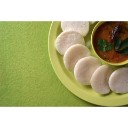idly: (74, 57, 101, 87), (65, 44, 91, 68), (57, 32, 84, 54), (92, 66, 112, 94), (109, 66, 128, 93), (60, 21, 89, 37)
